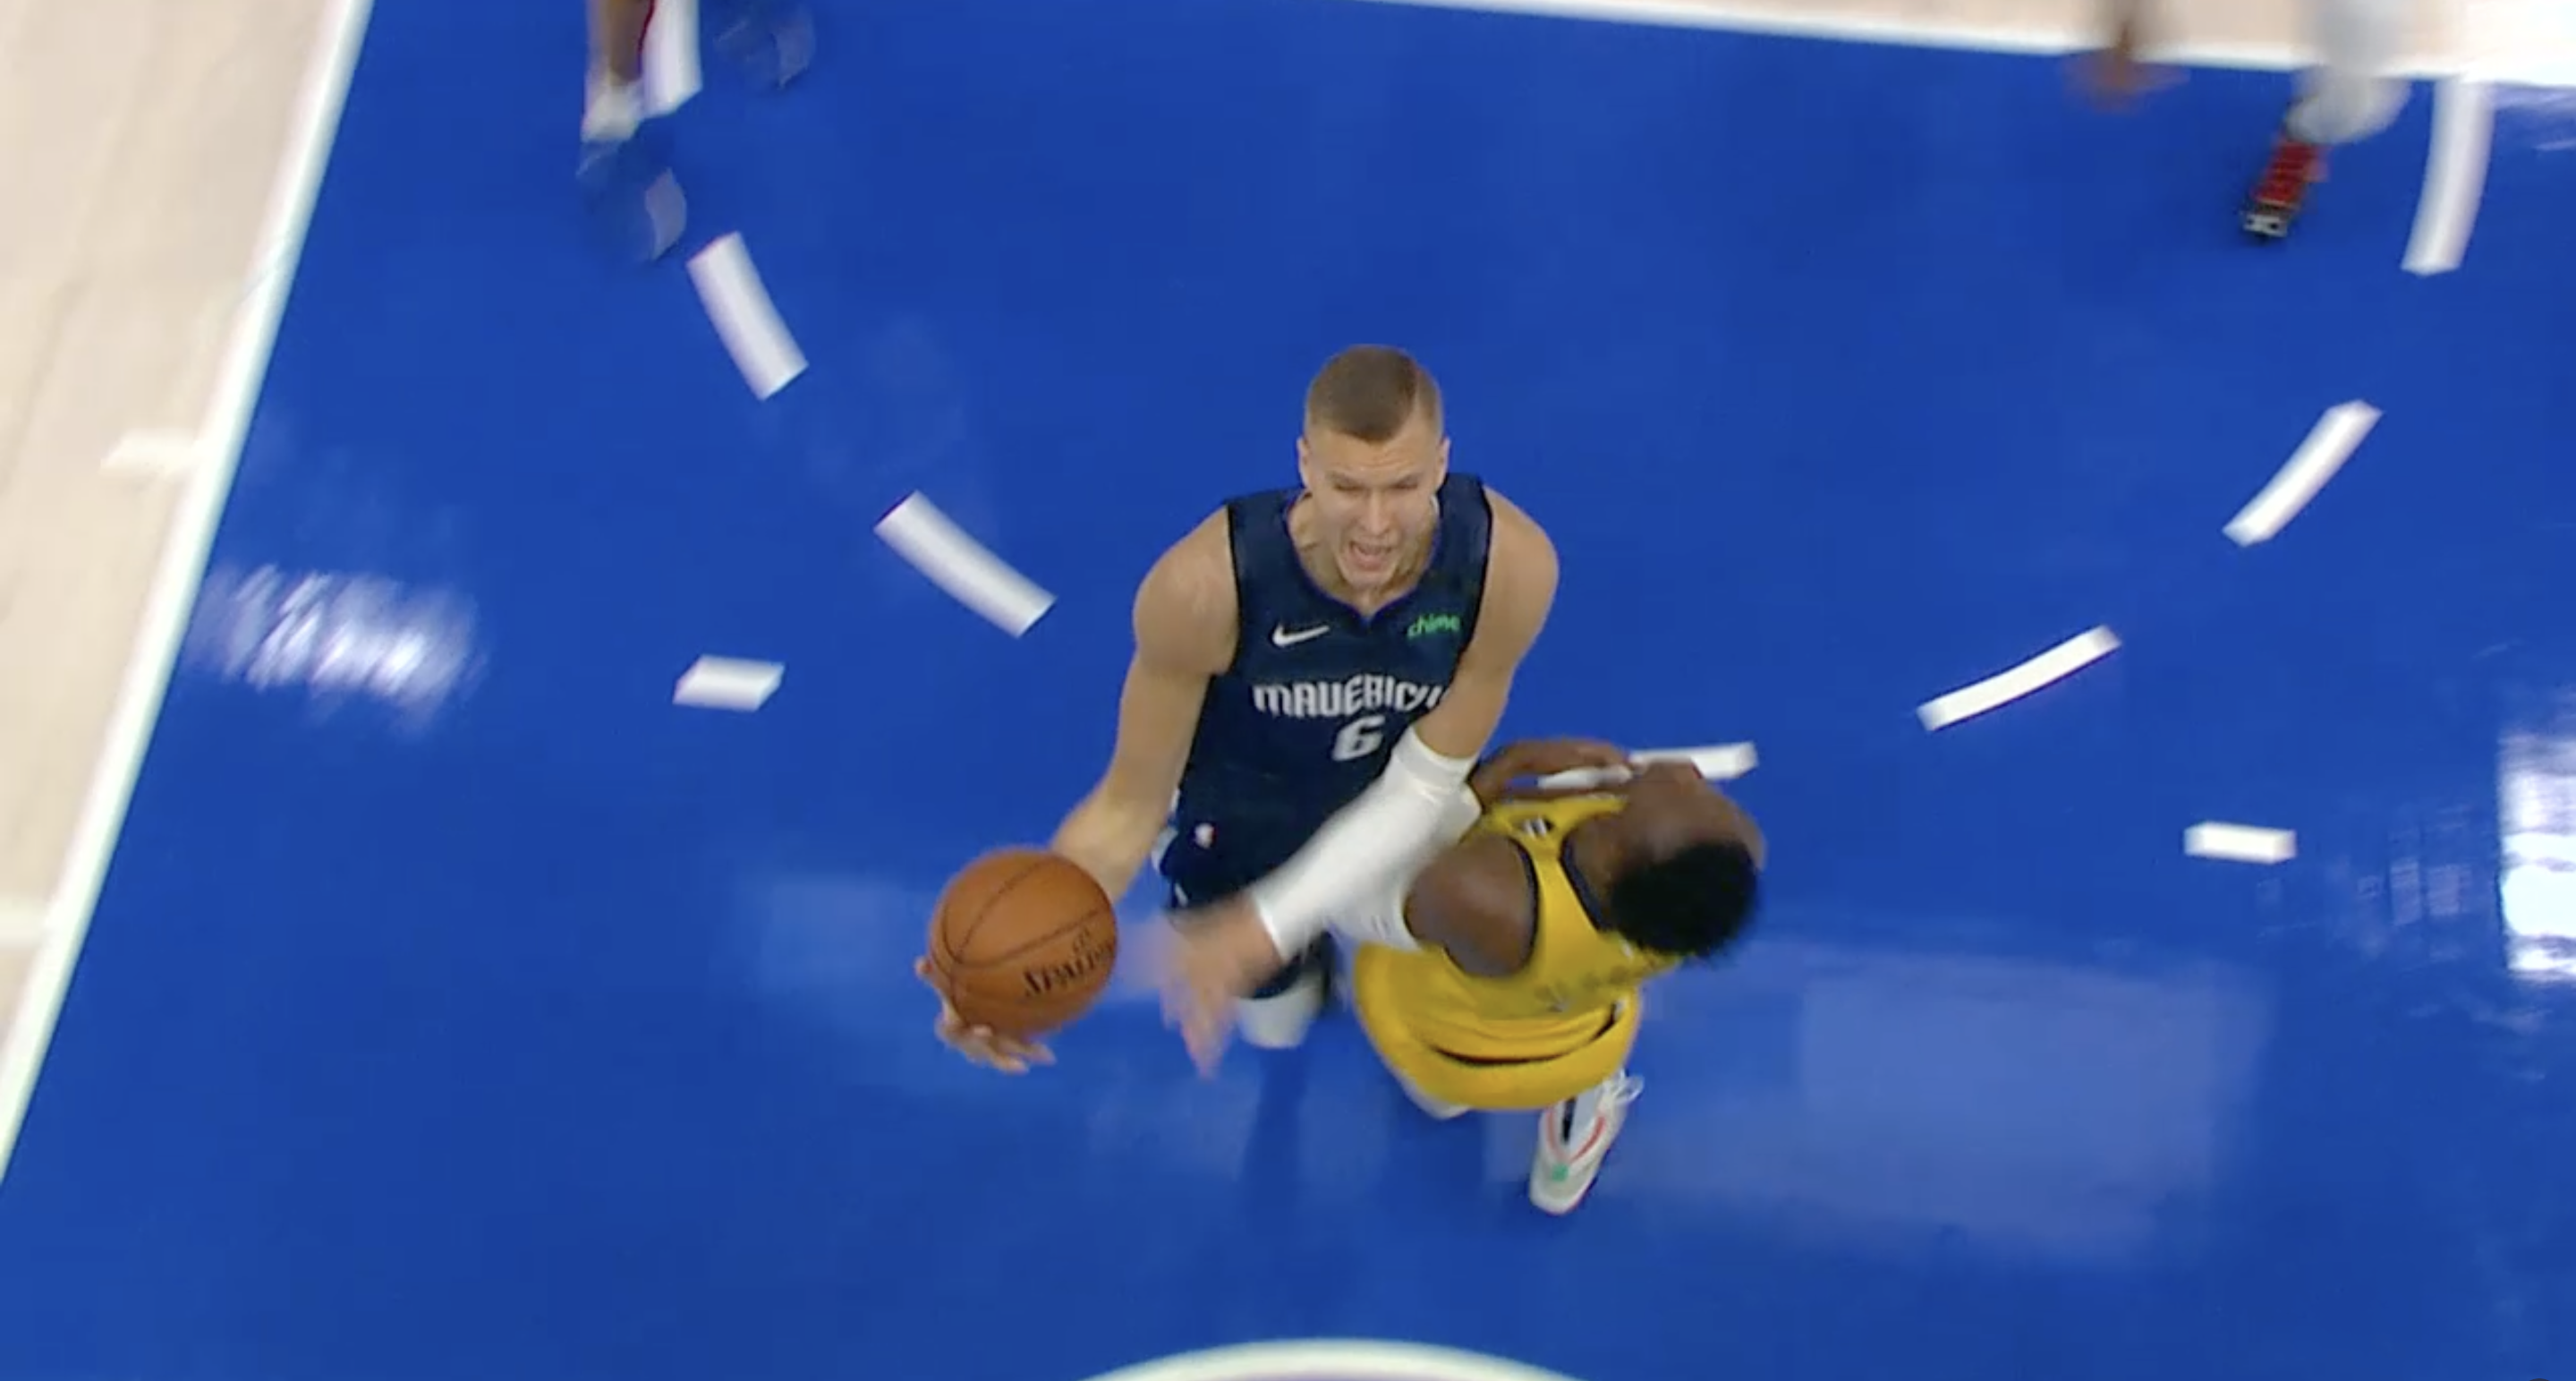Foul: (944, 298, 1739, 1257)
